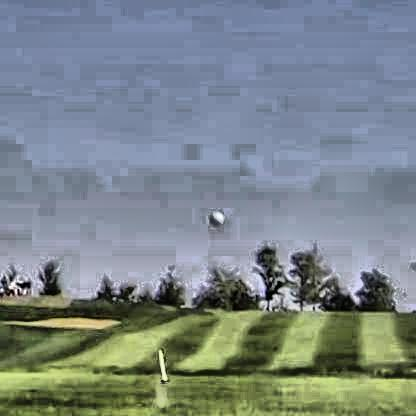golfball: (206, 206, 221, 224)
